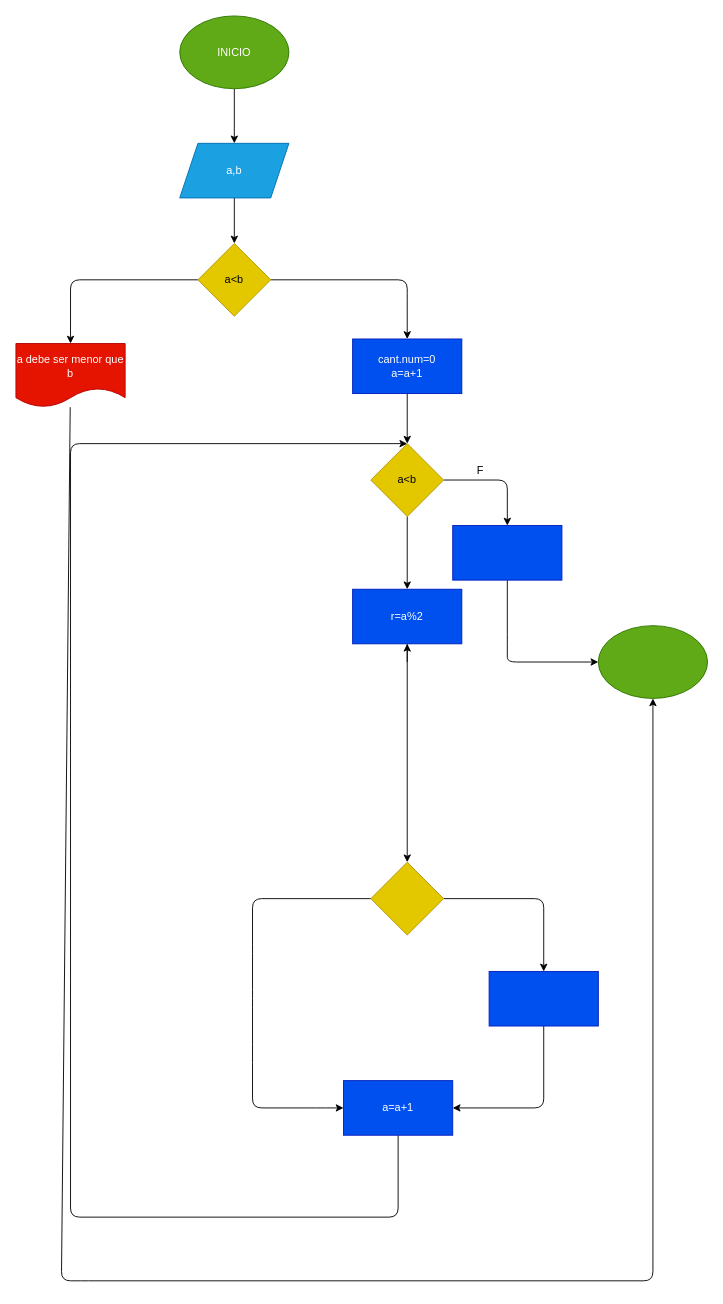
Image size: 723x1304. Some labels were removed from this diagram. The centre of each missing label's shape, as x and y in pixels:
"cant.num" goes at [507,552].
"cant.num= cant.num+1" goes at [543,998].
"FIN" goes at [652,661].
"r=0" goes at [407,898].
